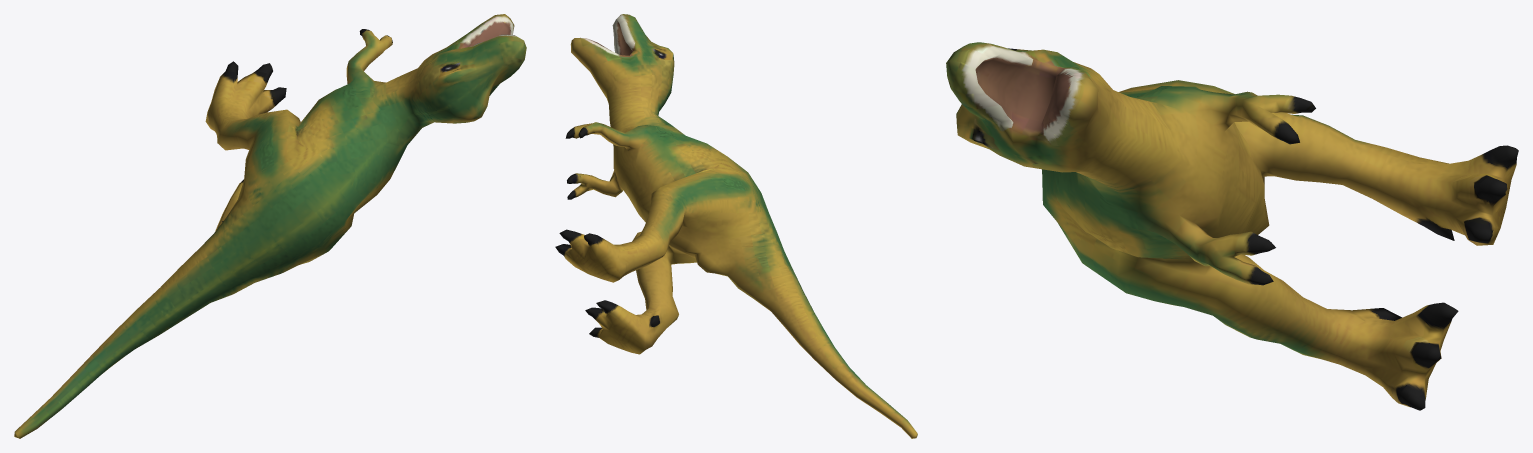
File: GTDinosaur.glb
3 views of the same model, side by side, from view 1: azimuth 30°, elevation 25°; view 2: azimuth 150°, elevation 25°; view 3: azimuth 270°, elevation 25° (orthographic). The views are drawn at different scales.
Visible parts, largest first — view 1: xiaoKongLong; view 2: xiaoKongLong; view 3: xiaoKongLong.
Boxes of the visible parts, x1=… form: xiaoKongLong: x1=14, y1=14, x2=526, y2=438; xiaoKongLong: x1=555, y1=14, x2=917, y2=438; xiaoKongLong: x1=946, y1=42, x2=1518, y2=410.
Bounding box in the file's own units: 1.86 × 1.37 × 1.21.
Materials: 1 (1 with a texture image).
